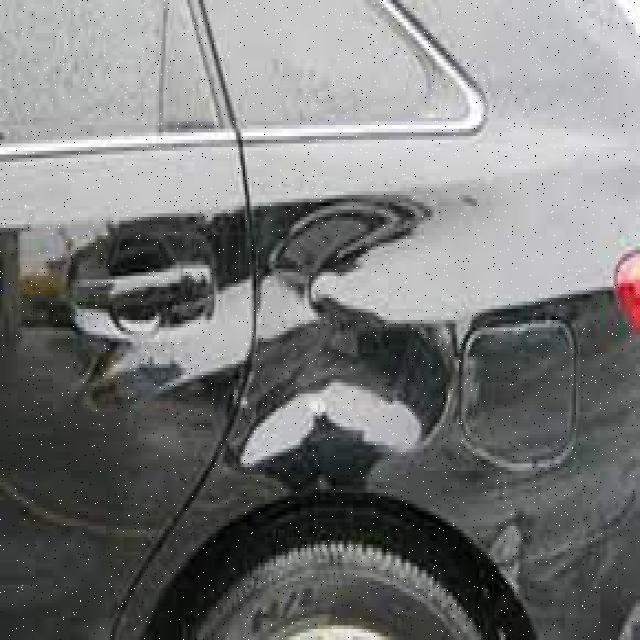quaterpanel-dent: (250, 136, 604, 633)
